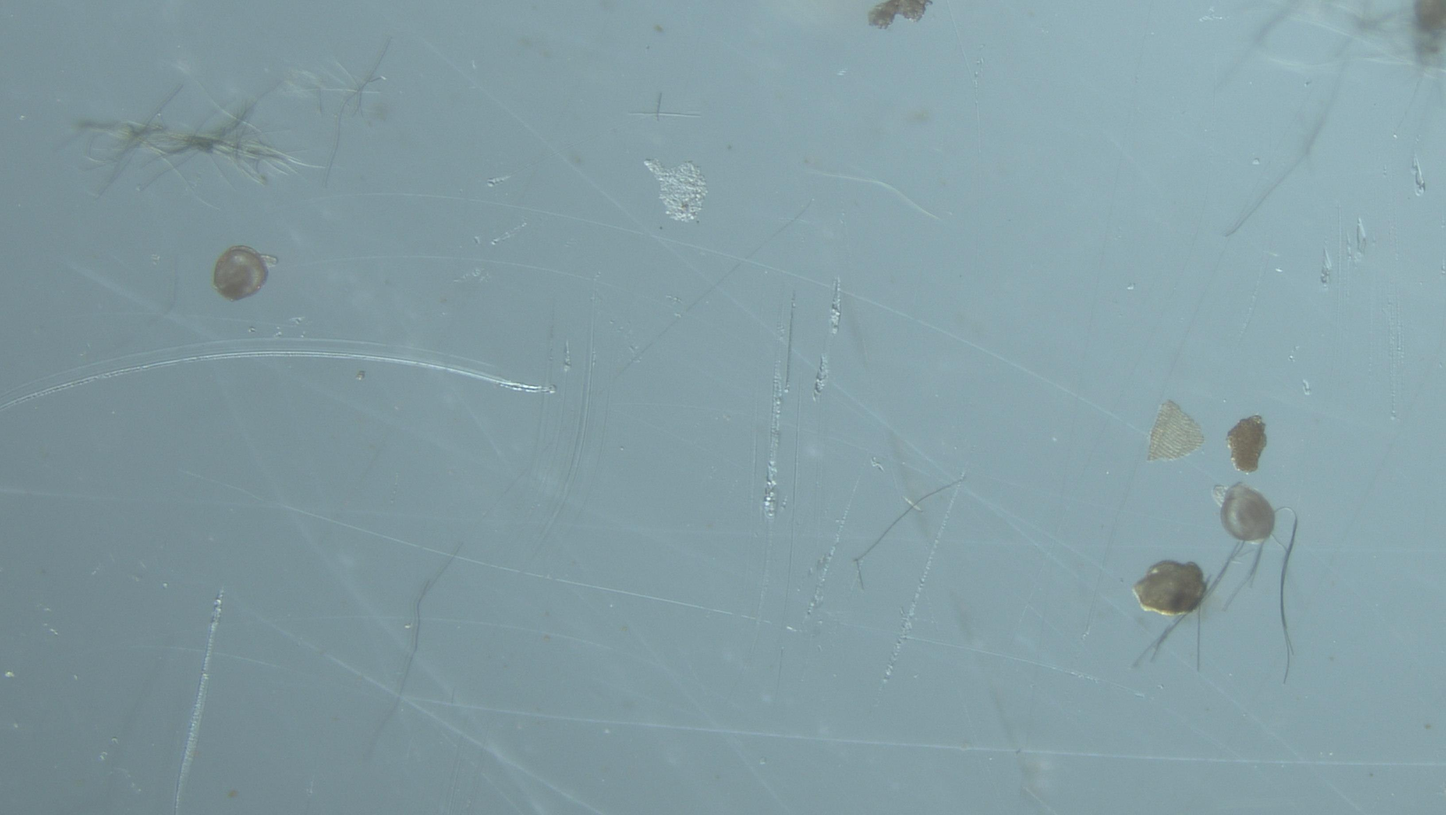live: (212, 246, 276, 301), (1221, 483, 1275, 543)
